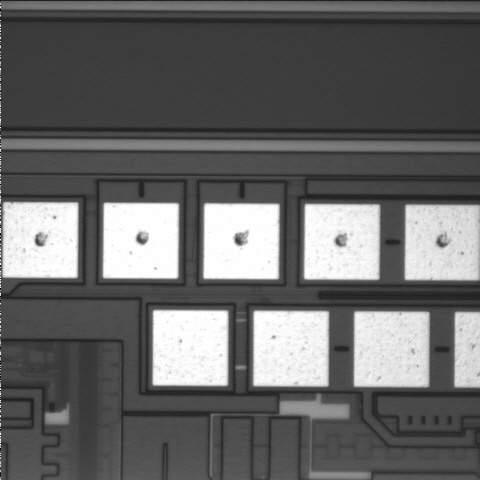pad: (103, 203, 179, 279), (203, 203, 279, 279), (304, 204, 380, 280), (3, 202, 78, 278), (153, 310, 228, 386), (253, 311, 329, 386), (354, 312, 429, 387)
